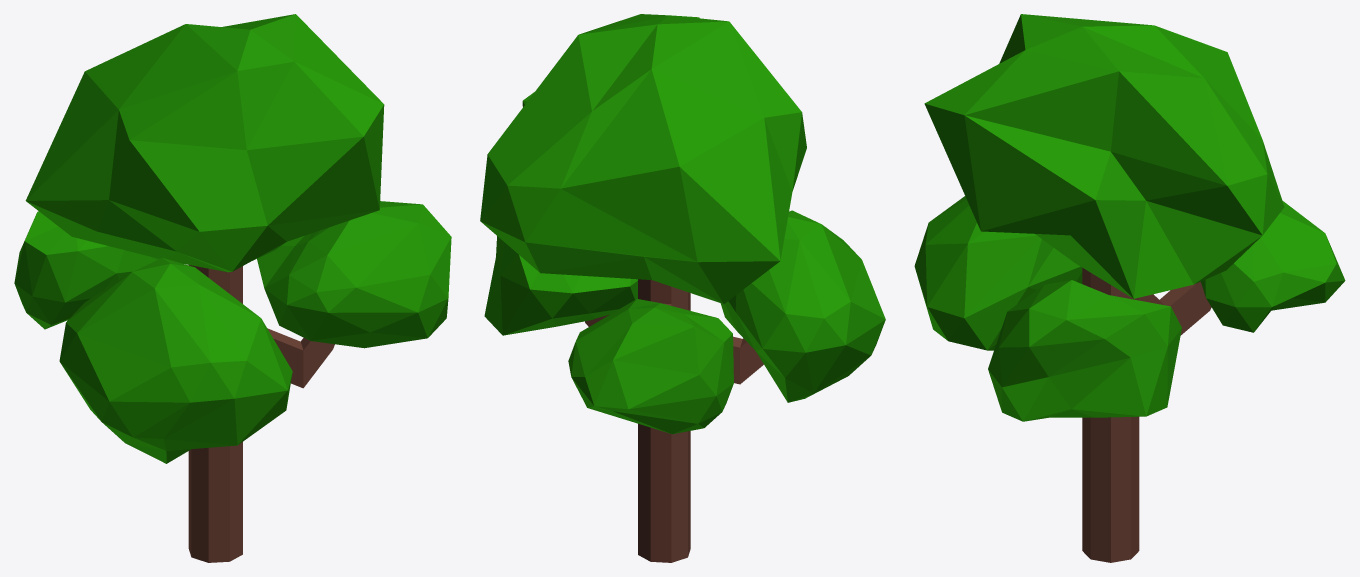
Rendered from tree2.fbx.
3 renders of one model, left to right at view 1: azimuth 30°, elevation 25°; view 2: azimuth 150°, elevation 25°; view 3: azimuth 270°, elevation 25°, orthographic. The views are drawn at different scales.
Visible parts, largest first — view 1: Cylinder; view 2: Cylinder; view 3: Cylinder.
Boxes of the visible parts, x1=… form: Cylinder: x1=14, y1=14, x2=451, y2=562; Cylinder: x1=480, y1=14, x2=885, y2=562; Cylinder: x1=914, y1=14, x2=1345, y2=562.
Size of the model in its own units: 579 by 794 by 580.
